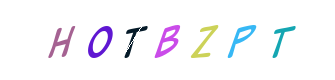0: (60, 0, 140, 80)
B: (120, 0, 200, 80)
H: (31, 0, 111, 80)
P: (164, 0, 244, 80)
T: (93, 0, 173, 80), (218, 0, 298, 80)
Z: (127, 0, 207, 80)
